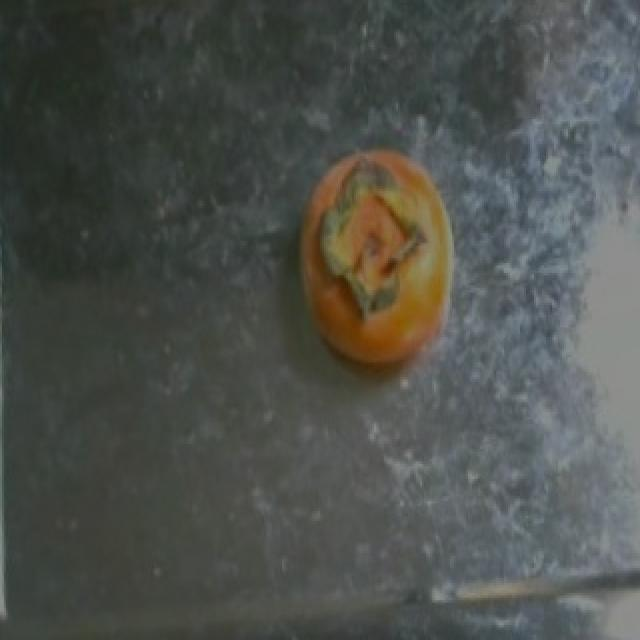Fruit: (278, 129, 474, 394)
